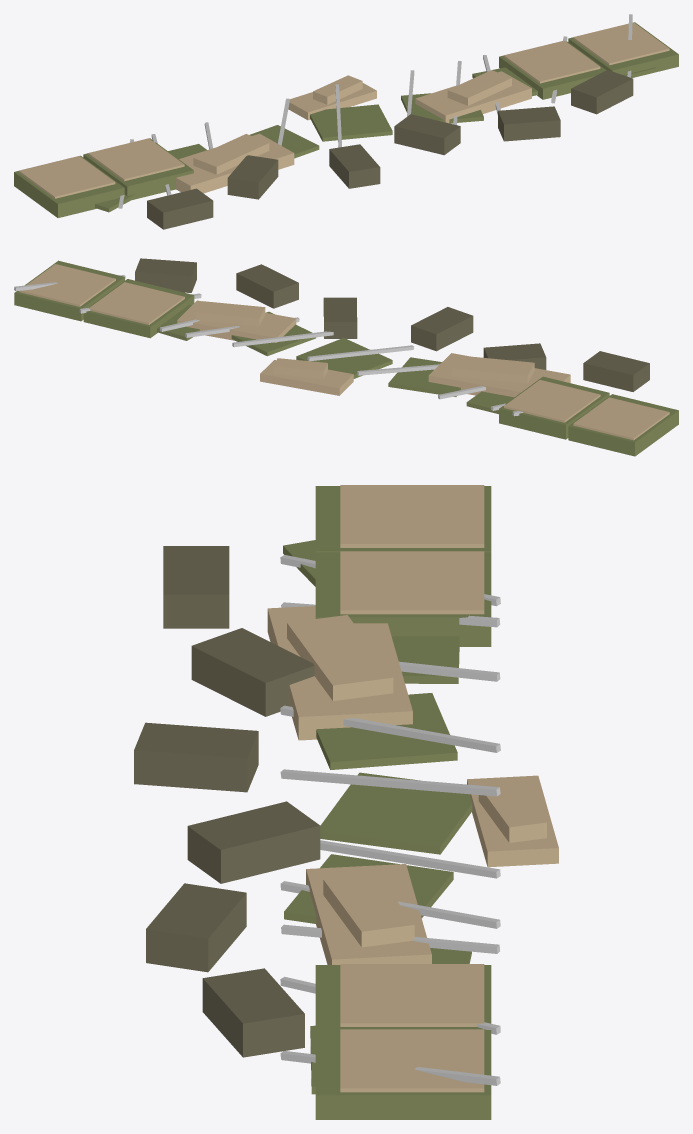
Rendered from SM_MuroHesco_v3_RemateSacos_e3_Brecha_LOD0.fbx.
3 renders of one model, top to bottom at view 1: azimuth 30°, elevation 25°; view 2: azimuth 150°, elevation 25°; view 3: azimuth 270°, elevation 25°, orthographic. The views are drawn at different scales.
Parts seen in each view (by area): view 1: SM_bloques.muro_hesco_estados_v15_LOD0; view 2: SM_bloques.muro_hesco_estados_v15_LOD0; view 3: SM_bloques.muro_hesco_estados_v15_LOD0.
Boxes of the visible parts, x1=… form: SM_bloques.muro_hesco_estados_v15_LOD0: x1=14, y1=14, x2=678, y2=229; SM_bloques.muro_hesco_estados_v15_LOD0: x1=14, y1=258, x2=678, y2=456; SM_bloques.muro_hesco_estados_v15_LOD0: x1=134, y1=485, x2=558, y2=1119.
Size of the model in its own units: 9.96 by 0.3263 by 2.95.
